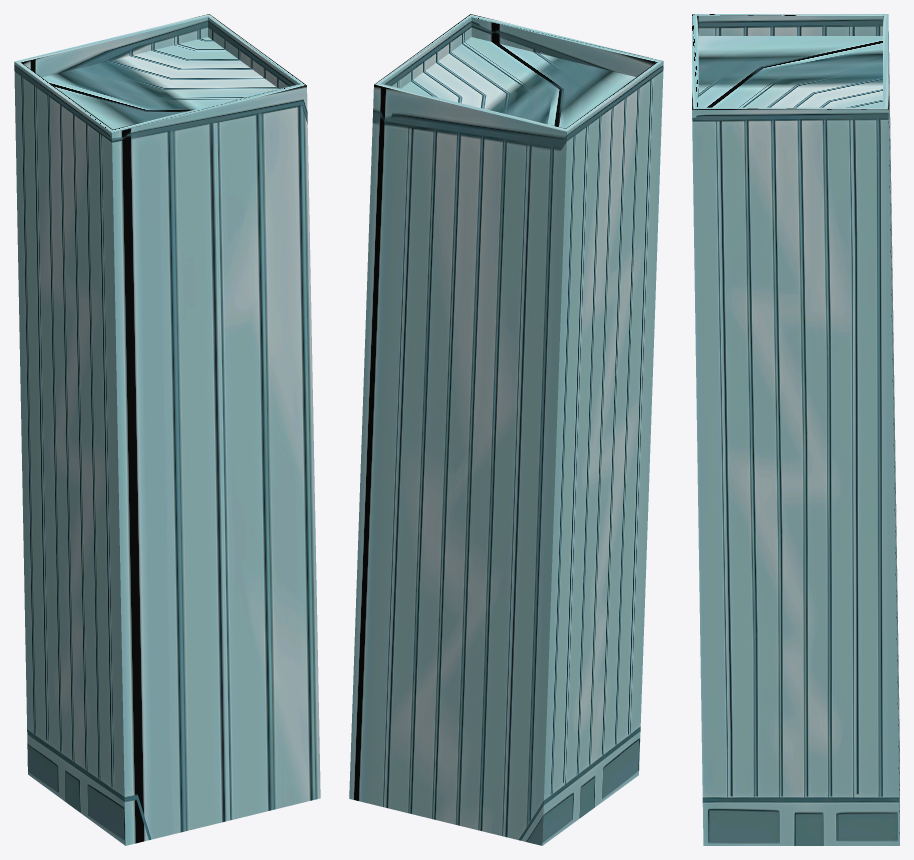
The model's file is House2.glb.
The picture shows the model from 3 angles, left to right: view 1: azimuth 30°, elevation 25°; view 2: azimuth 150°, elevation 25°; view 3: azimuth 270°, elevation 25°; orthographic projection.
Visible parts, largest first — view 1: House2; view 2: House2; view 3: House2.
Part boxes in pixels (x1,y1,x2,y2): House2: [14, 14, 320, 845]; House2: [349, 14, 663, 845]; House2: [692, 14, 899, 845].
Bounding box in the file's own units: 52.75 × 170 × 44.01.
1 material, 1 textured.
